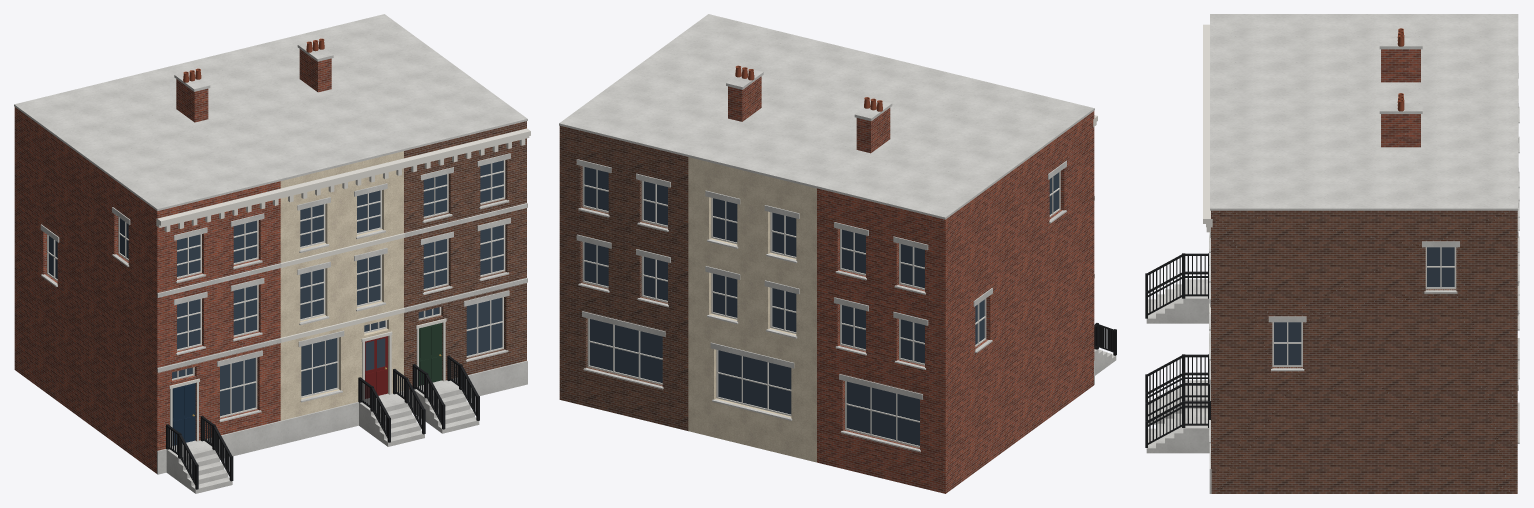
File: townhouses.glb
The picture shows the model from 3 angles, left to right: view 1: azimuth 30°, elevation 25°; view 2: azimuth 150°, elevation 25°; view 3: azimuth 270°, elevation 25°; orthographic projection. The views are drawn at different scales.
Parts seen in each view (by area): view 1: Townhouses; view 2: Townhouses; view 3: Townhouses.
Part boxes in pixels (x1,y1,x2,y2): Townhouses: [14, 14, 530, 493]; Townhouses: [559, 14, 1116, 493]; Townhouses: [1145, 14, 1519, 493].
Bounding box in the file's own units: 15.14 × 11.94 × 12.22.
14 materials, 6 textured.
